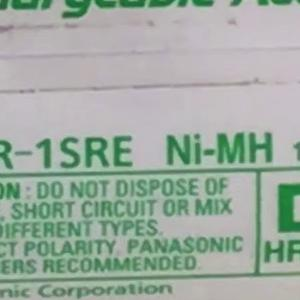NI-MH: (141, 123, 281, 183)
